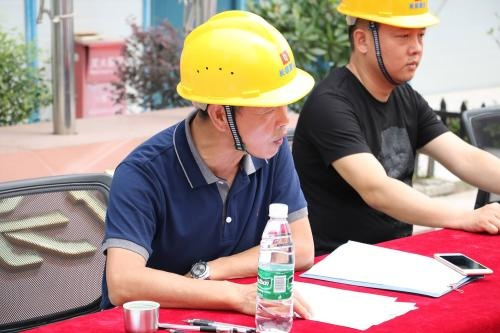yellow: (178, 10, 306, 160), (337, 1, 434, 88)
